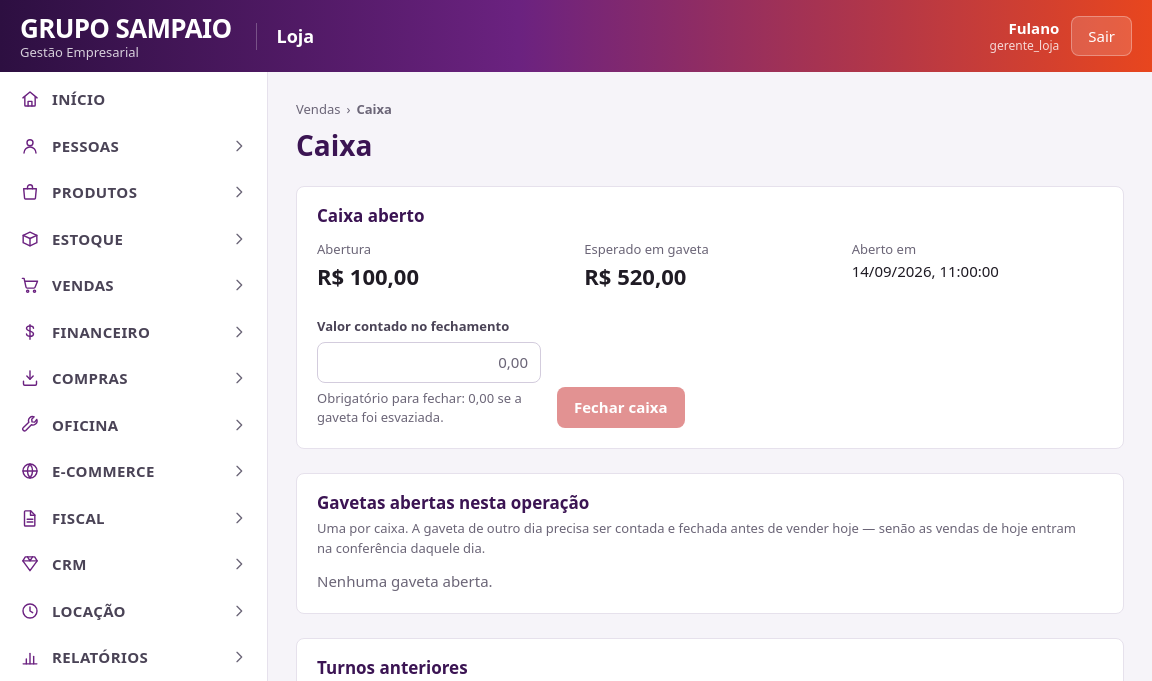
Test: H-caixa-seguranca-01 — o valor digitado é lido como dinheiro, e fechar pede confirmação › "350.50" é R$ 350,50 — e só fecha depois da confirmação com contado × esperado
In the field labelled "Valor contado no fechamento": (429, 362) [317,342,541,382], type "350.50"
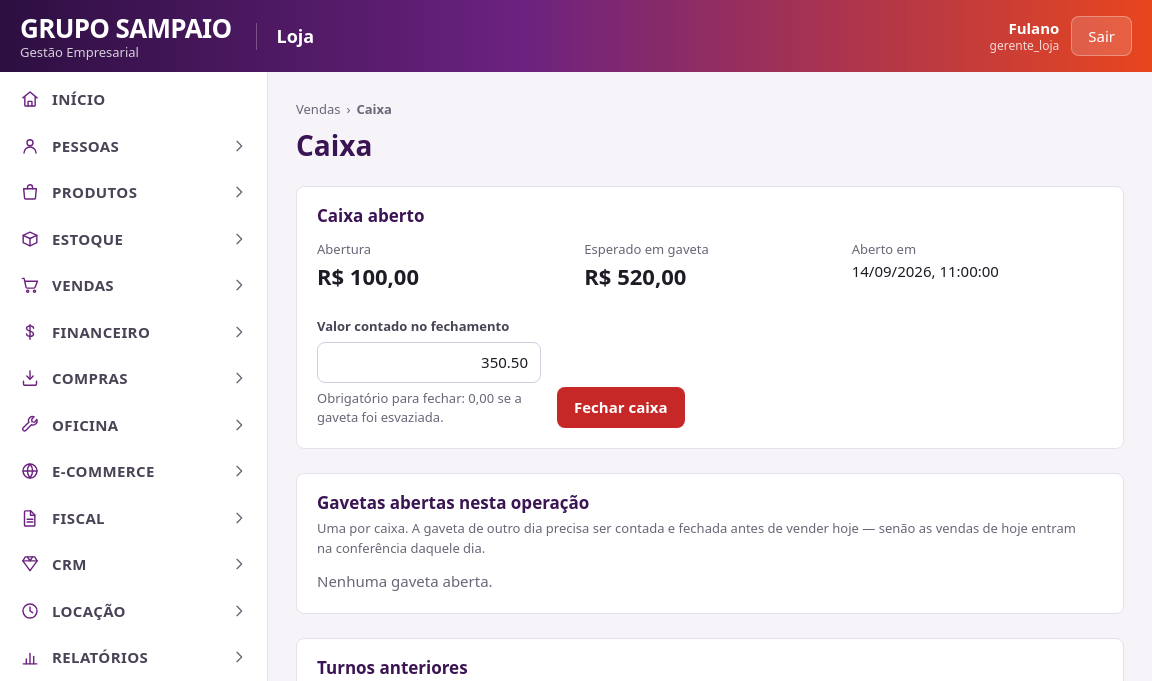
Click the button "Fechar caixa": (621, 407) [557,387,684,428]
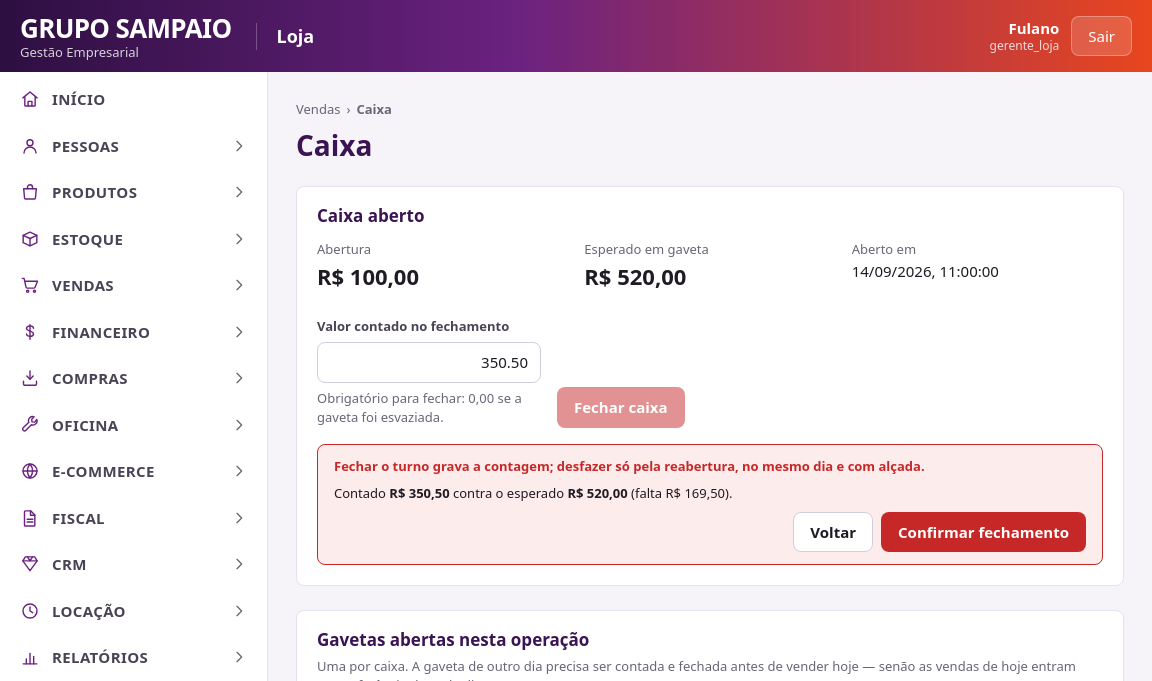
Click the button "Confirmar fechamento": (984, 532) [881,512,1086,552]
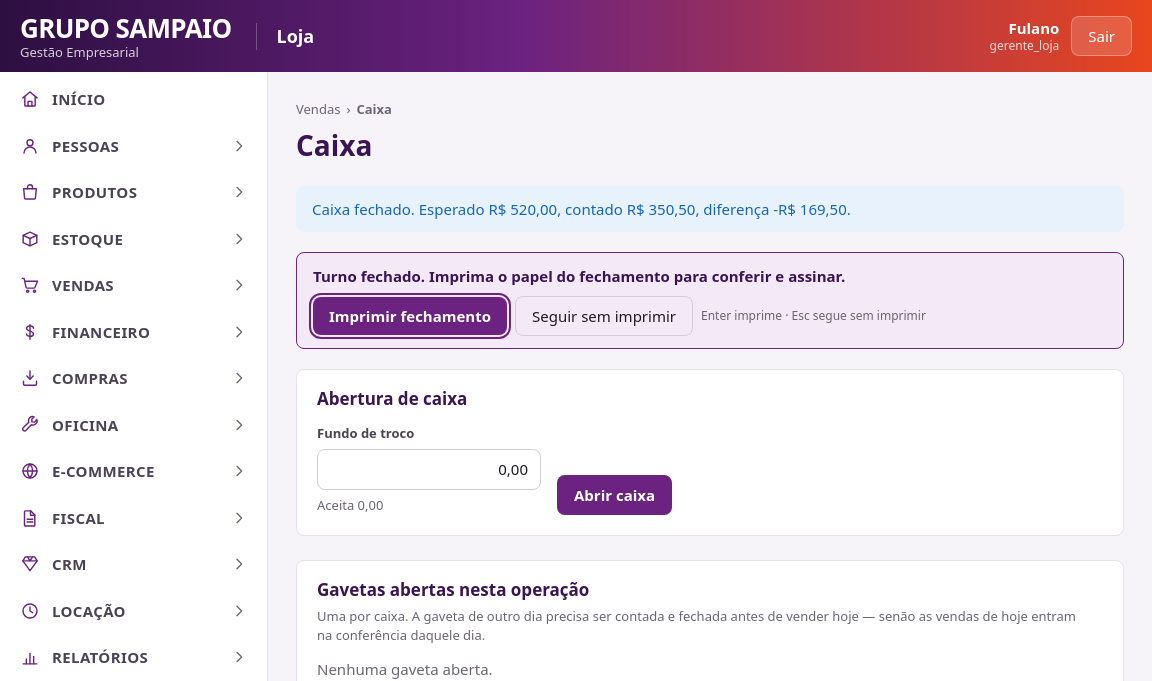
Expected: the message shows "Caixa fechado.", [312,198,851,218]
